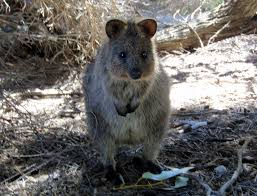quokka: (64, 12, 184, 175)
